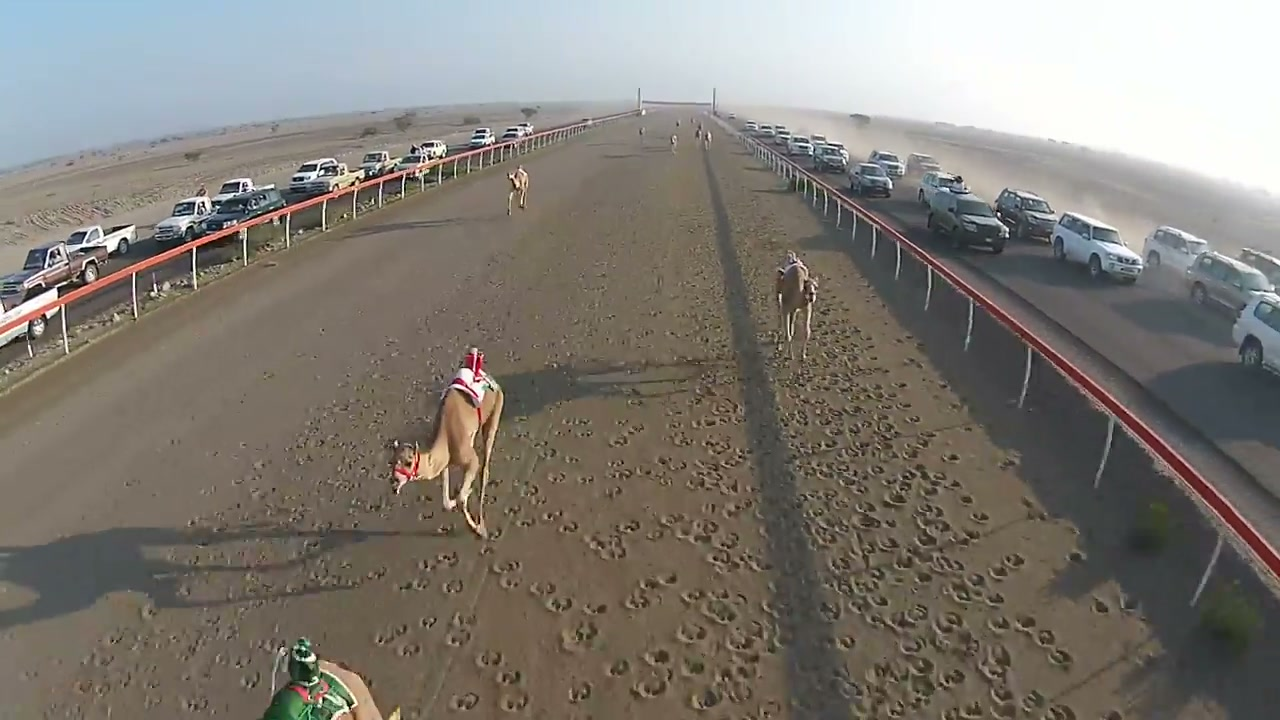animal_foot_print: (378, 209, 1140, 719), (702, 272, 1091, 717), (488, 418, 780, 714), (525, 570, 720, 708), (603, 589, 779, 709), (447, 638, 530, 713), (724, 623, 768, 659), (494, 668, 529, 711), (561, 620, 599, 652), (584, 532, 627, 560), (443, 612, 476, 647), (632, 669, 669, 699), (699, 597, 738, 625), (488, 559, 523, 589), (675, 621, 709, 645), (690, 686, 724, 710), (420, 552, 460, 571), (623, 590, 652, 615), (375, 624, 410, 644), (499, 688, 528, 712), (679, 654, 708, 678), (561, 416, 593, 437), (568, 680, 593, 704), (448, 692, 479, 711), (653, 455, 687, 472), (642, 648, 672, 667), (606, 458, 633, 479), (475, 650, 504, 669), (490, 559, 523, 575), (1116, 591, 1140, 612), (605, 658, 631, 677), (544, 596, 573, 613), (529, 581, 557, 598), (445, 629, 471, 647), (649, 571, 678, 587), (398, 578, 430, 591), (614, 519, 641, 534), (501, 505, 526, 521), (397, 642, 422, 658), (669, 432, 695, 447), (441, 578, 464, 594), (498, 574, 521, 589), (582, 602, 608, 614), (539, 445, 559, 460), (558, 520, 579, 534), (607, 434, 629, 447), (541, 509, 563, 522), (545, 471, 567, 484), (624, 422, 644, 436), (418, 615, 438, 629), (514, 516, 537, 528), (605, 485, 623, 499), (574, 473, 595, 484), (657, 473, 673, 486), (563, 455, 580, 464)
